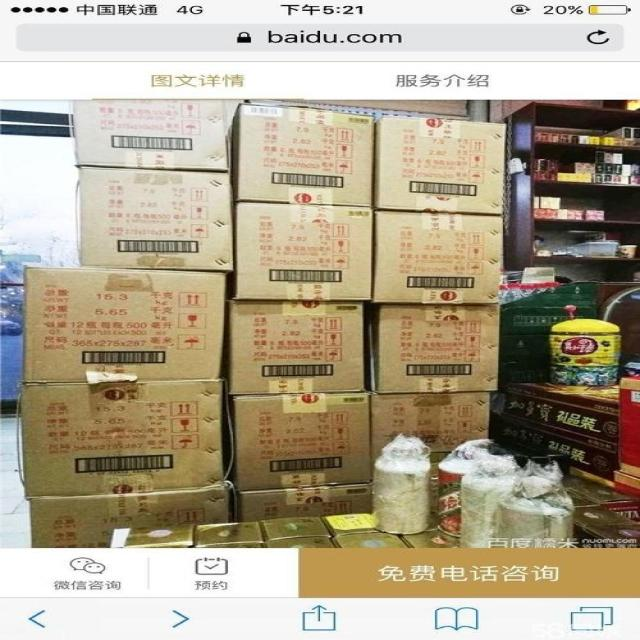box: (20, 379, 225, 498), (24, 266, 227, 382), (79, 166, 234, 273), (228, 103, 374, 207), (229, 392, 370, 490), (375, 116, 507, 217), (236, 203, 372, 301), (228, 302, 364, 395), (372, 210, 503, 305), (29, 487, 230, 548), (370, 304, 499, 393), (70, 99, 229, 171), (500, 382, 620, 455), (371, 392, 490, 463), (234, 483, 370, 522), (620, 375, 640, 478), (108, 525, 193, 547), (259, 517, 333, 541), (195, 522, 264, 546), (330, 531, 411, 549), (323, 512, 378, 535)
